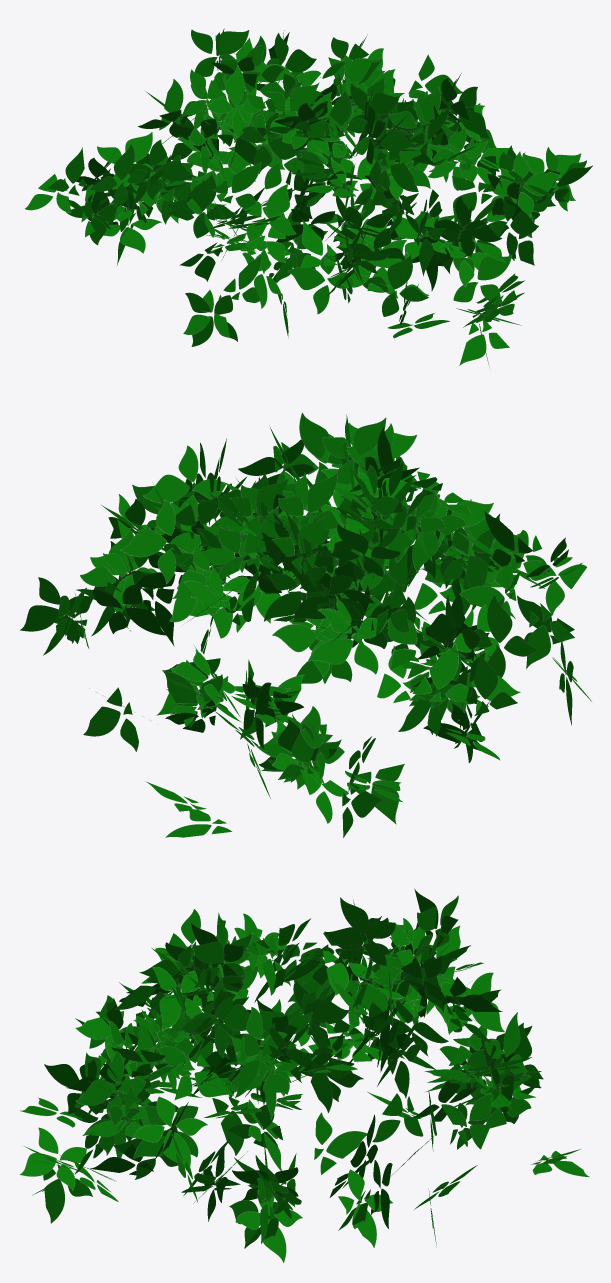
File: LowLeafsLod.fbx
3 views of the same model, one above another, from view 1: azimuth 30°, elevation 25°; view 2: azimuth 150°, elevation 25°; view 3: azimuth 270°, elevation 25° (orthographic). The views are drawn at different scales.
Visible parts, largest first — view 1: Plane.001; view 2: Plane.001; view 3: Plane.001.
Boxes of the visible parts, box(x1,y1,x2,y2) form: Plane.001: box(25, 28, 592, 366); Plane.001: box(20, 412, 591, 837); Plane.001: box(19, 888, 589, 1262).
Size of the model in its own units: 542 by 294 by 537.
